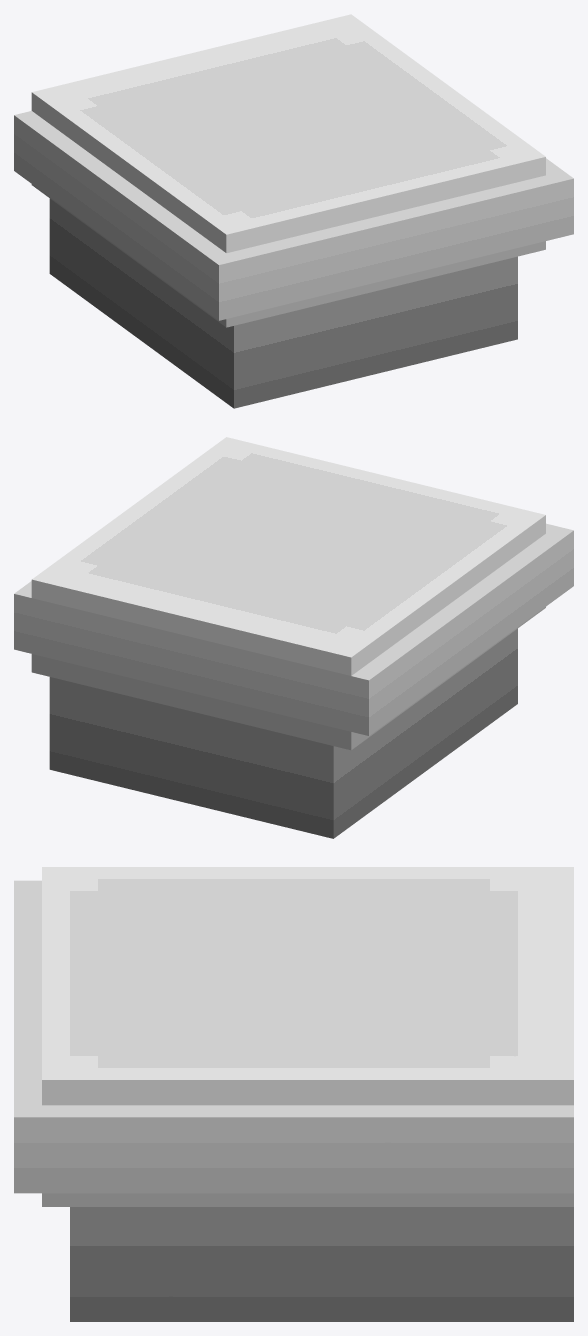
File: half_top_end.glb
The picture shows the model from 3 angles, top to bottom: view 1: azimuth 30°, elevation 25°; view 2: azimuth 150°, elevation 25°; view 3: azimuth 270°, elevation 25°; orthographic projection. The views are drawn at different scales.
Visible parts, largest first — view 1: half_top_end; view 2: half_top_end; view 3: half_top_end.
Boxes of the visible parts, x1,y1,x2,y2 form: half_top_end: (14,14,573,408); half_top_end: (14,437,573,838); half_top_end: (14,867,573,1321).
Size of the model in its own units: 2 by 1 by 2.
Materials: 1 (1 with a texture image).
